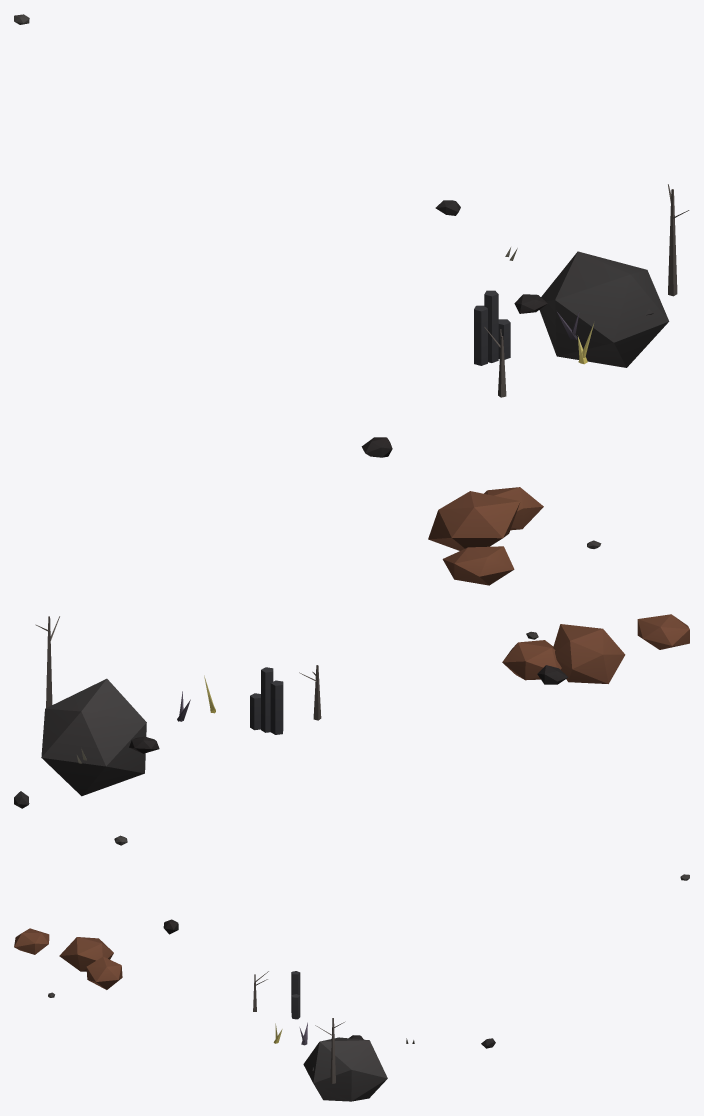
File: ash_land_scatter_c22_29_lod1.glb
3 renders of one model, top to bottom at view 1: azimuth 30°, elevation 25°; view 2: azimuth 150°, elevation 25°; view 3: azimuth 270°, elevation 25°, orthographic. The views are drawn at different scales.
Parts seen in each view (by area): view 1: ash_land_scatter_c22_29_lod1; view 2: ash_land_scatter_c22_29_lod1; view 3: ash_land_scatter_c22_29_lod1.
Part boxes in pixels (bbox=[...]): ash_land_scatter_c22_29_lod1: bbox=[14, 14, 689, 585]; ash_land_scatter_c22_29_lod1: bbox=[14, 614, 689, 845]; ash_land_scatter_c22_29_lod1: bbox=[14, 874, 689, 1101].
Size of the model in its own units: 30.91 by 13.54 by 62.42.
